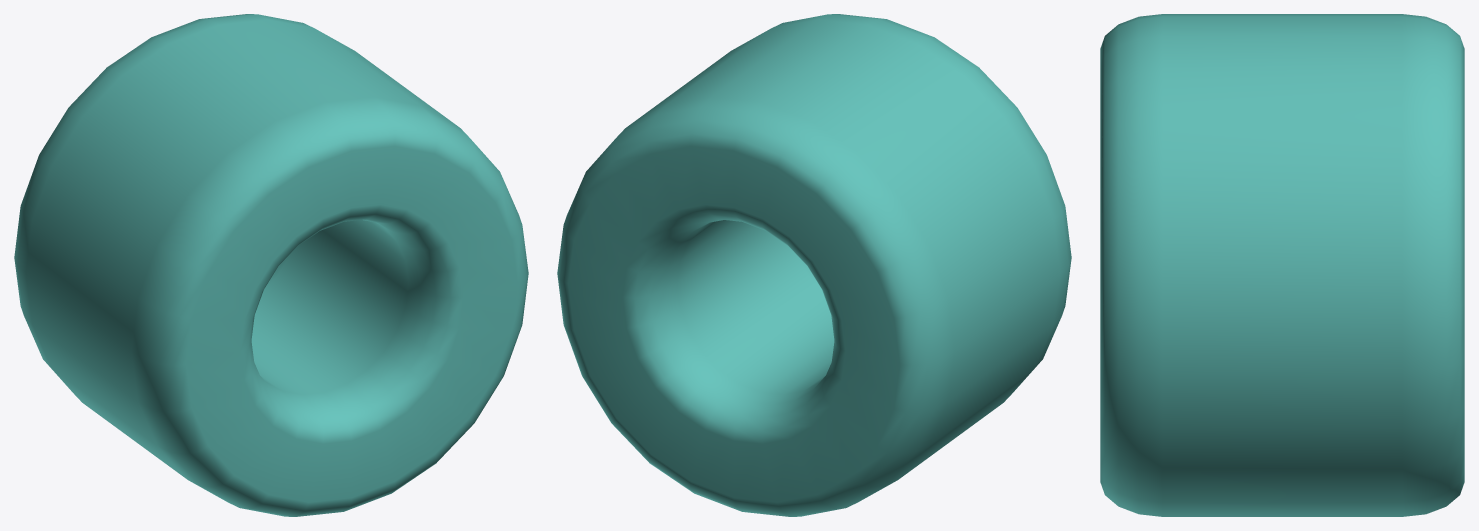
Rendered from seed-bead.glb.
The picture shows the model from 3 angles, left to right: view 1: azimuth 30°, elevation 25°; view 2: azimuth 150°, elevation 25°; view 3: azimuth 270°, elevation 25°; orthographic projection. The views are drawn at different scales.
Visible parts, largest first — view 1: Hope_11_0_Bead_Mint; view 2: Hope_11_0_Bead_Mint; view 3: Hope_11_0_Bead_Mint.
Part boxes in pixels (x1,y1,x2,y2): Hope_11_0_Bead_Mint: [14, 14, 528, 516]; Hope_11_0_Bead_Mint: [557, 14, 1071, 516]; Hope_11_0_Bead_Mint: [1100, 14, 1464, 516].
Bounding box in the file's own units: 0.0016 × 0.0016 × 0.00116.
